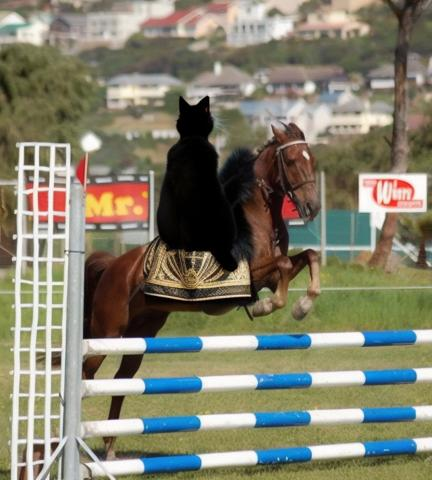cat: (146, 97, 253, 304)
horse: (25, 123, 322, 480)
